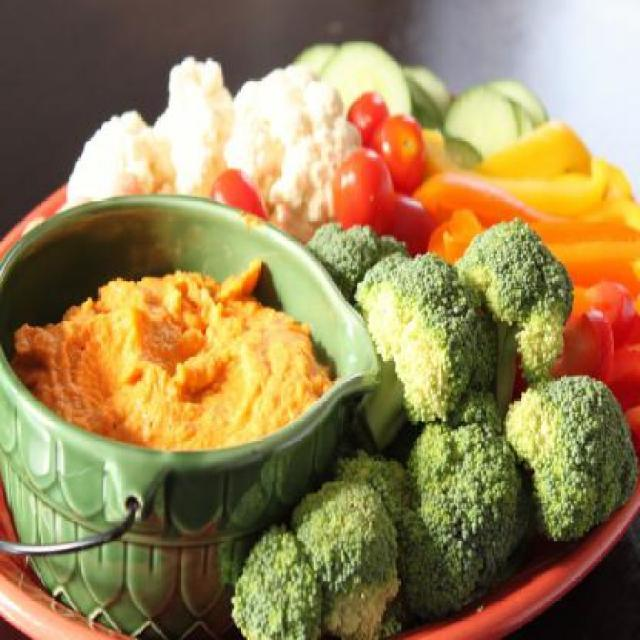Broccoli: (230, 216, 638, 638)
